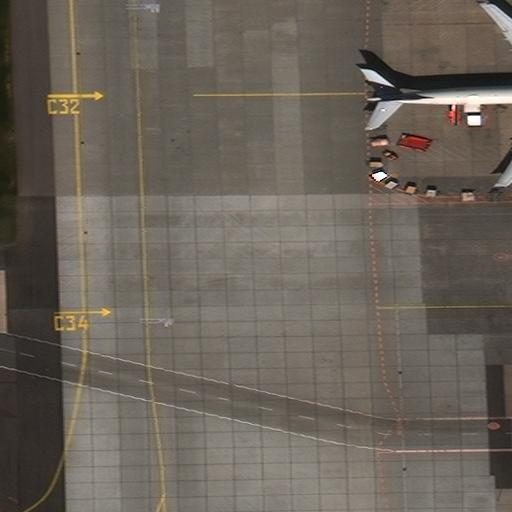Large Civil Transport: (363, 3, 512, 189)
